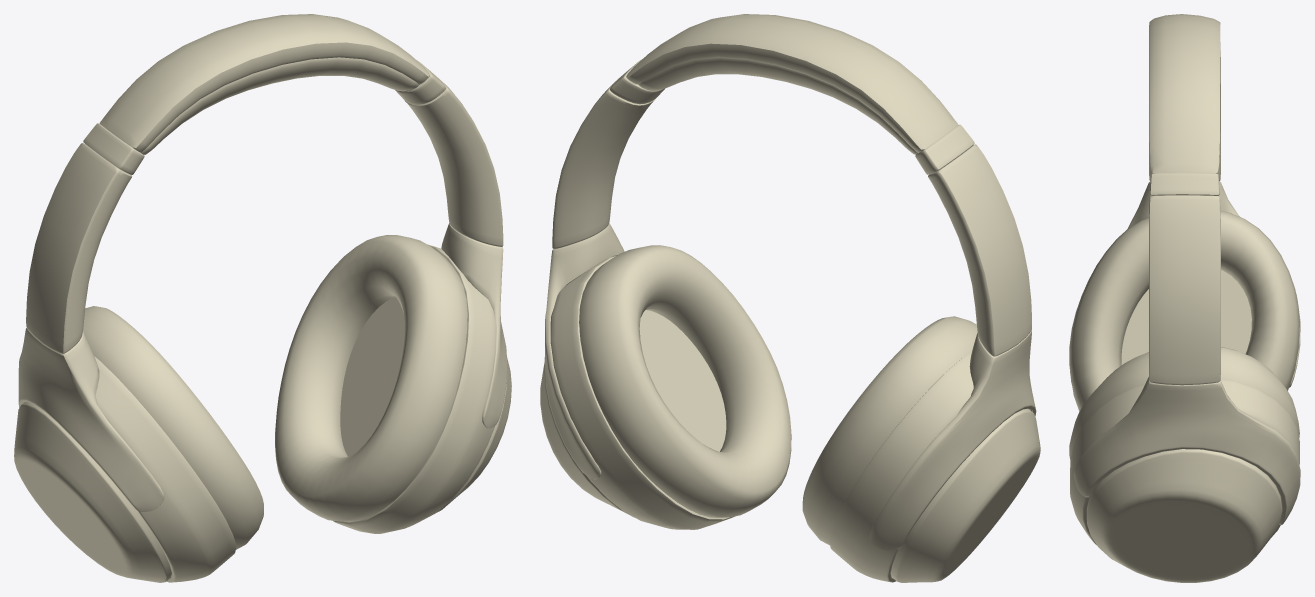
Rendered from ThreejsScene.glb.
The picture shows the model from 3 angles, left to right: view 1: azimuth 30°, elevation 25°; view 2: azimuth 150°, elevation 25°; view 3: azimuth 270°, elevation 25°; orthographic projection. The views are drawn at different scales.
Visible parts, largest first — view 1: уховнешнее001; view 2: уховнешнее001; view 3: уховнешнее001.
Boxes of the visible parts, x1,y1,x2,y2 form: уховнешнее001: (14,14,511,582); уховнешнее001: (540,14,1040,582); уховнешнее001: (1069,14,1300,582).
Bounding box in the file's own units: 4.3 × 4.62 × 1.99.
